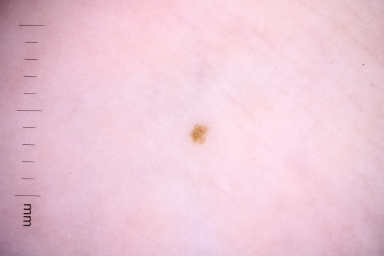nevus: (189, 127, 209, 145)
